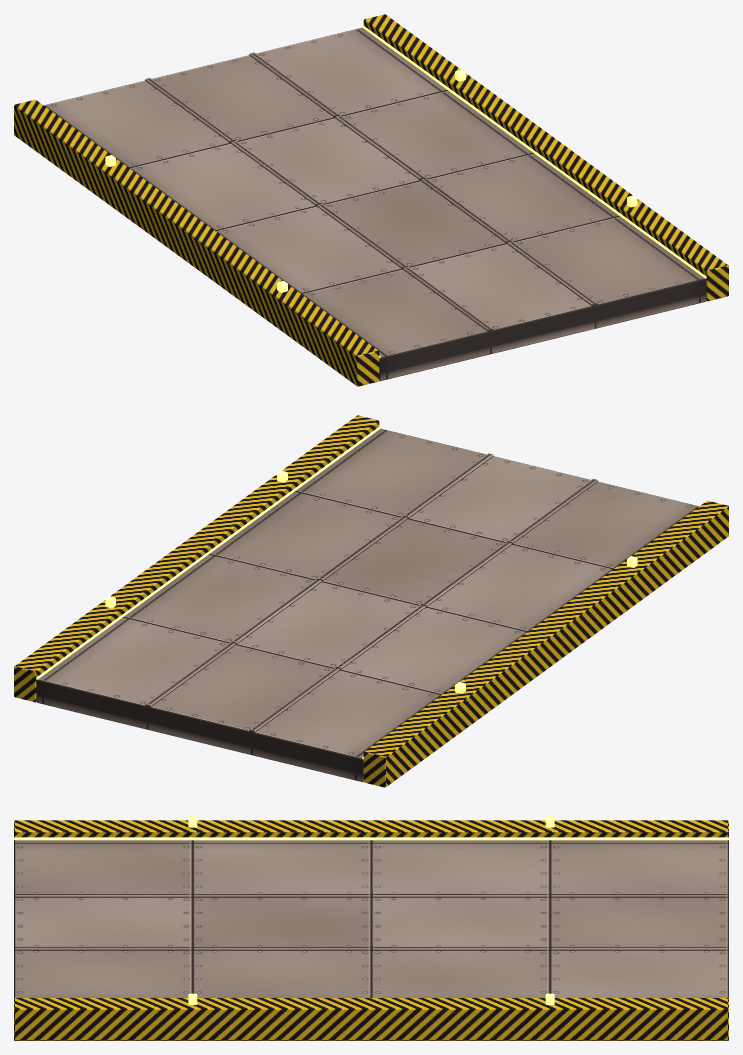
The model's file is env_scrapyard_lane.glb.
The picture shows the model from 3 angles, top to bottom: view 1: azimuth 30°, elevation 25°; view 2: azimuth 150°, elevation 25°; view 3: azimuth 270°, elevation 25°; orthographic projection. The views are drawn at different scales.
Parts seen in each view (by area): view 1: env_scrapyard_lane; view 2: env_scrapyard_lane; view 3: env_scrapyard_lane.
Part boxes in pixels (x1=…): env_scrapyard_lane: x1=14, y1=14, x2=728, y2=386; env_scrapyard_lane: x1=14, y1=415, x2=728, y2=787; env_scrapyard_lane: x1=14, y1=816, x2=728, y2=1040.
Bounding box in the file's own units: 5 × 0.5 × 8.
3 materials, 2 textured.
